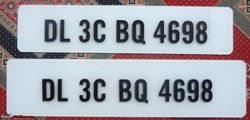number_plate: (6, 59, 247, 117), (17, 4, 235, 55)
